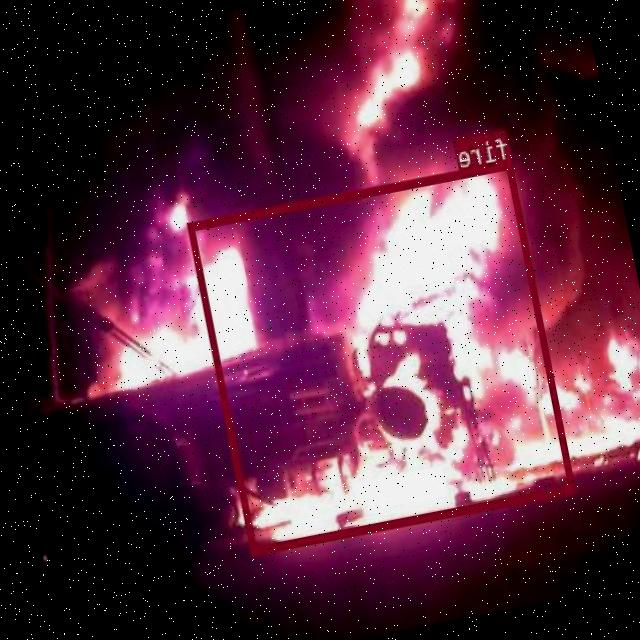fire: (188, 158, 576, 554)
